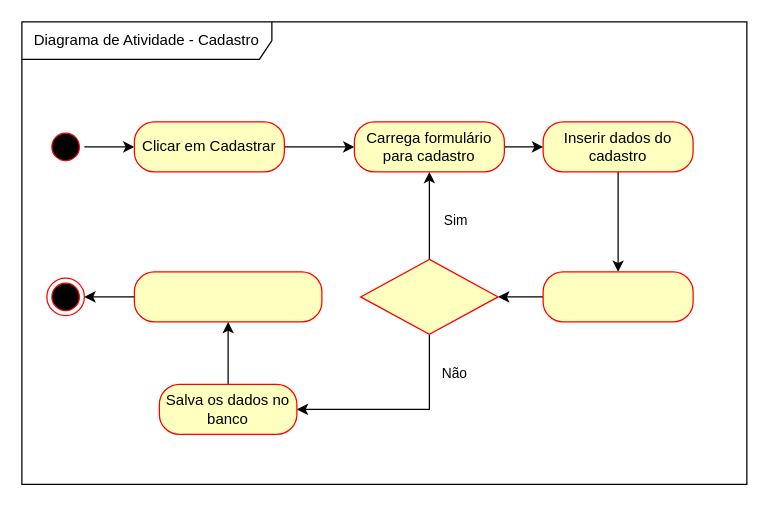
Image size: 769x506. Some labels were removed from this diagram. Here are the shapes that lost their labels. From the top down, the centre of each, then its label:
At (x=227, y=296): "Abre a timeline com a sessão do novo cadastro".
At (x=428, y=296): "Usuario ja cadastrado".
At (x=617, y=296): "Clicar em Criar Conta".
